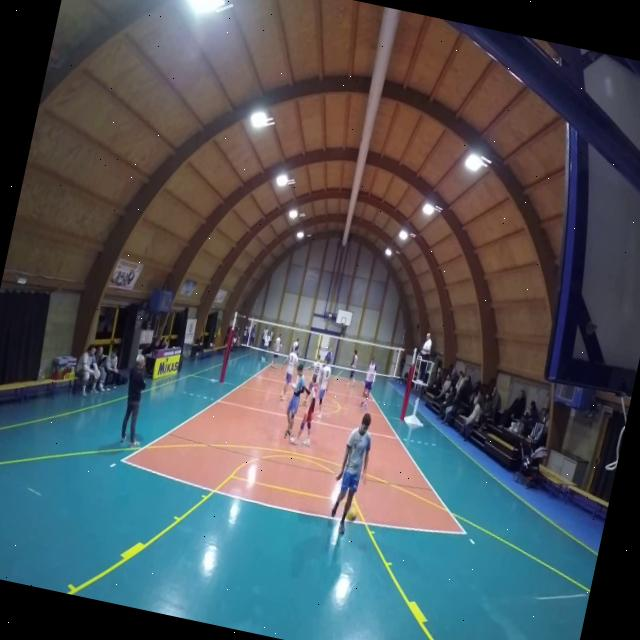Volleyball: (344, 504, 360, 526)
